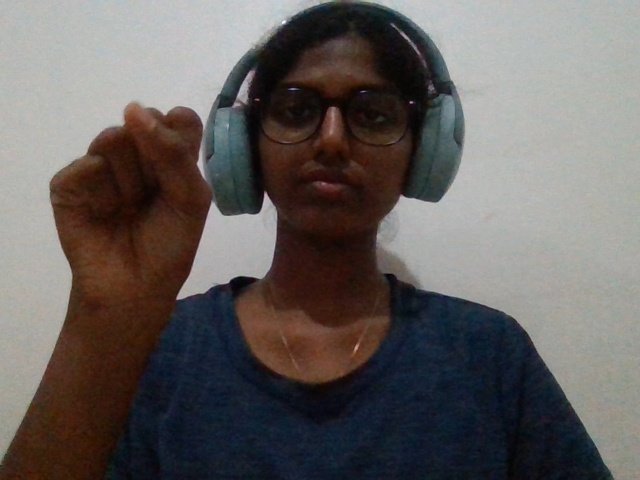Yes: (33, 94, 211, 332)
